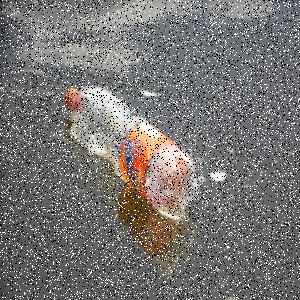Plastic-bottle: (64, 87, 201, 223)
